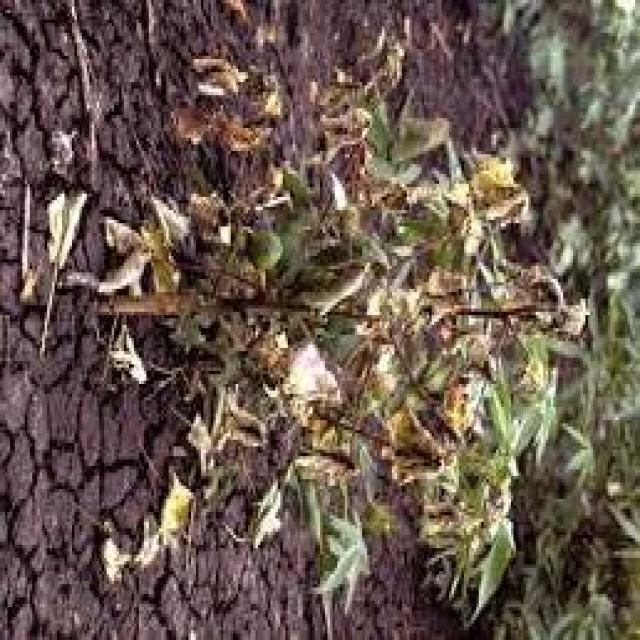Fusarium Wilt: (46, 75, 536, 628)
